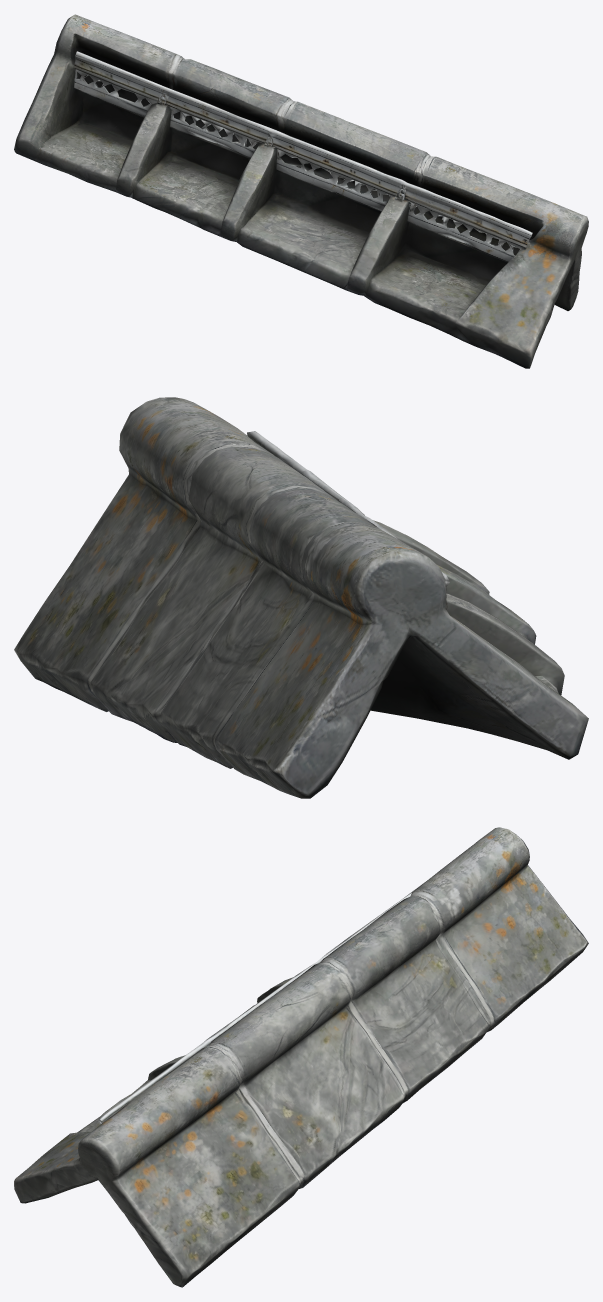
3 views of the same model, one above another, from view 1: azimuth 30°, elevation 25°; view 2: azimuth 150°, elevation 25°; view 3: azimuth 270°, elevation 25° (orthographic). The views are drawn at different scales.
Visible parts, largest first — view 1: tripo_node_ee5129a1-b508-4b08-bca4-ed4d38ea7eb7; view 2: tripo_node_ee5129a1-b508-4b08-bca4-ed4d38ea7eb7; view 3: tripo_node_ee5129a1-b508-4b08-bca4-ed4d38ea7eb7.
Part boxes in pixels (bbox=[...]): tripo_node_ee5129a1-b508-4b08-bca4-ed4d38ea7eb7: bbox=[14, 14, 588, 368]; tripo_node_ee5129a1-b508-4b08-bca4-ed4d38ea7eb7: bbox=[14, 397, 588, 798]; tripo_node_ee5129a1-b508-4b08-bca4-ed4d38ea7eb7: bbox=[14, 827, 588, 1287].
Bounding box in the file's own units: 0.8991 × 0.5271 × 0.9796.
Materials: 1 (1 with a texture image).
